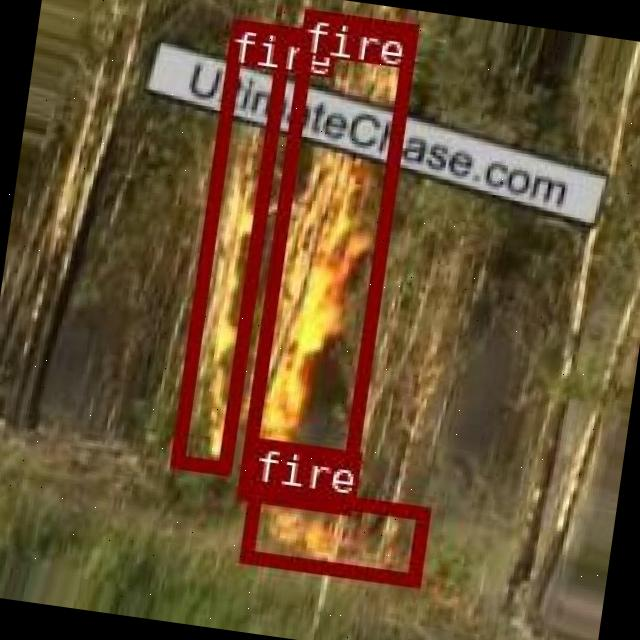fire: (235, 7, 416, 510), (168, 16, 292, 472), (237, 482, 427, 584)
